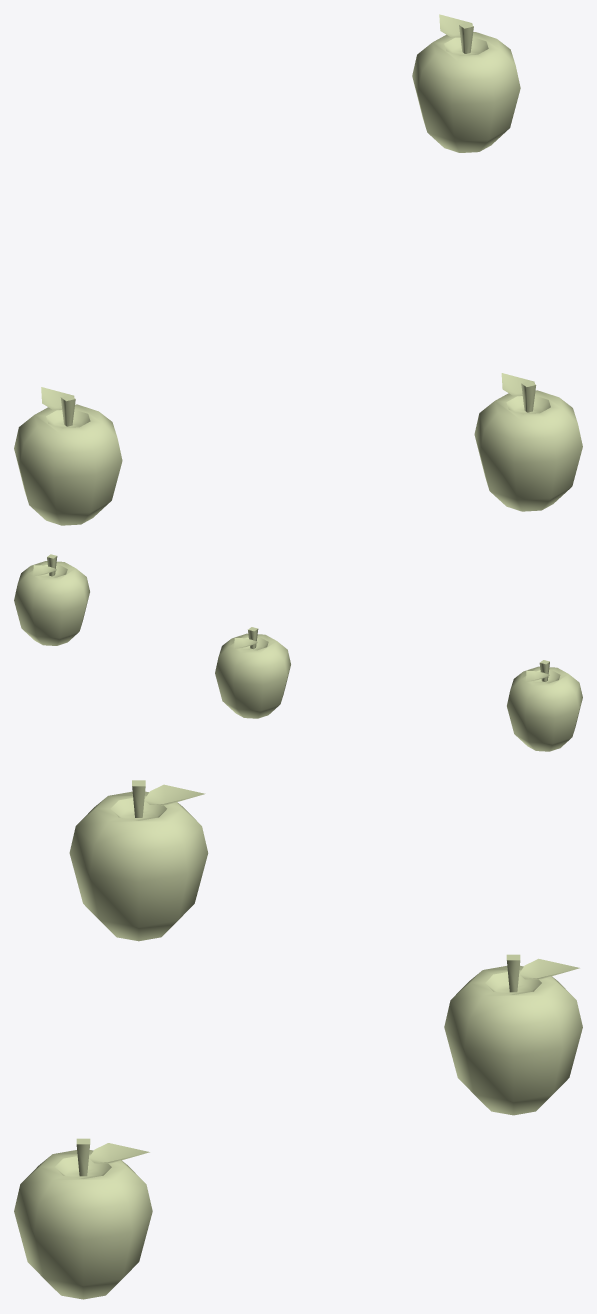
The model's file is crafted-apple-fruits-full.glb.
3 views of the same model, one above another, from view 1: azimuth 30°, elevation 25°; view 2: azimuth 150°, elevation 25°; view 3: azimuth 270°, elevation 25° (orthographic). The views are drawn at different scales.
Parts seen in each view (by area): view 1: fruit-0, fruit-1, fruit-2; view 2: fruit-0, fruit-1, fruit-2; view 3: fruit-0, fruit-1, fruit-2.
Boxes of the visible parts, x1=… form: fruit-0: x1=14, y1=387, x2=122, y2=525; fruit-1: x1=474, y1=373, x2=582, y2=511; fruit-2: x1=412, y1=14, x2=520, y2=152; fruit-0: x1=507, y1=660, x2=582, y2=751; fruit-1: x1=215, y1=627, x2=290, y2=718; fruit-2: x1=14, y1=554, x2=89, y2=645; fruit-0: x1=69, y1=780, x2=208, y2=941; fruit-1: x1=14, y1=1138, x2=152, y2=1299; fruit-2: x1=444, y1=954, x2=582, y2=1115.
Bounding box in the file's own units: 1.33 × 0.63 × 0.82.
